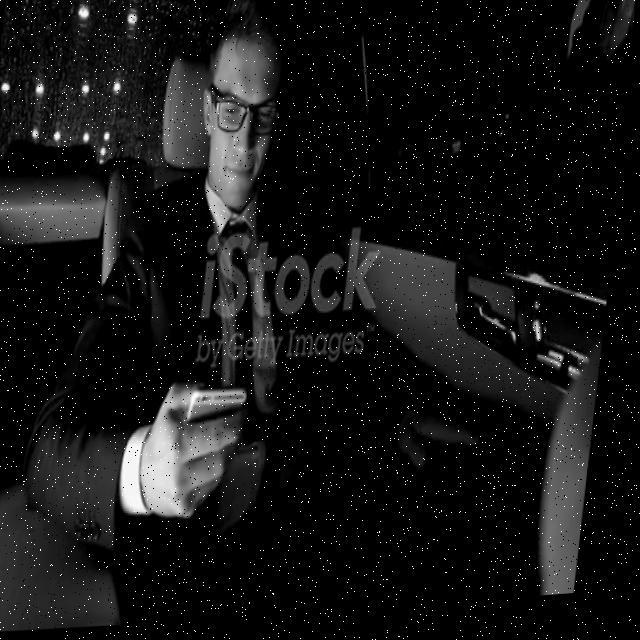PhoneCall: (185, 388, 258, 512)
